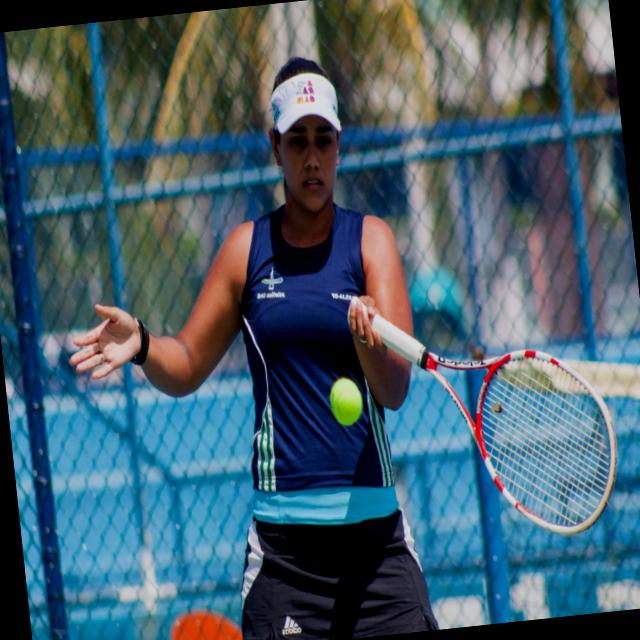Tennis Ball: (328, 376, 363, 426)
